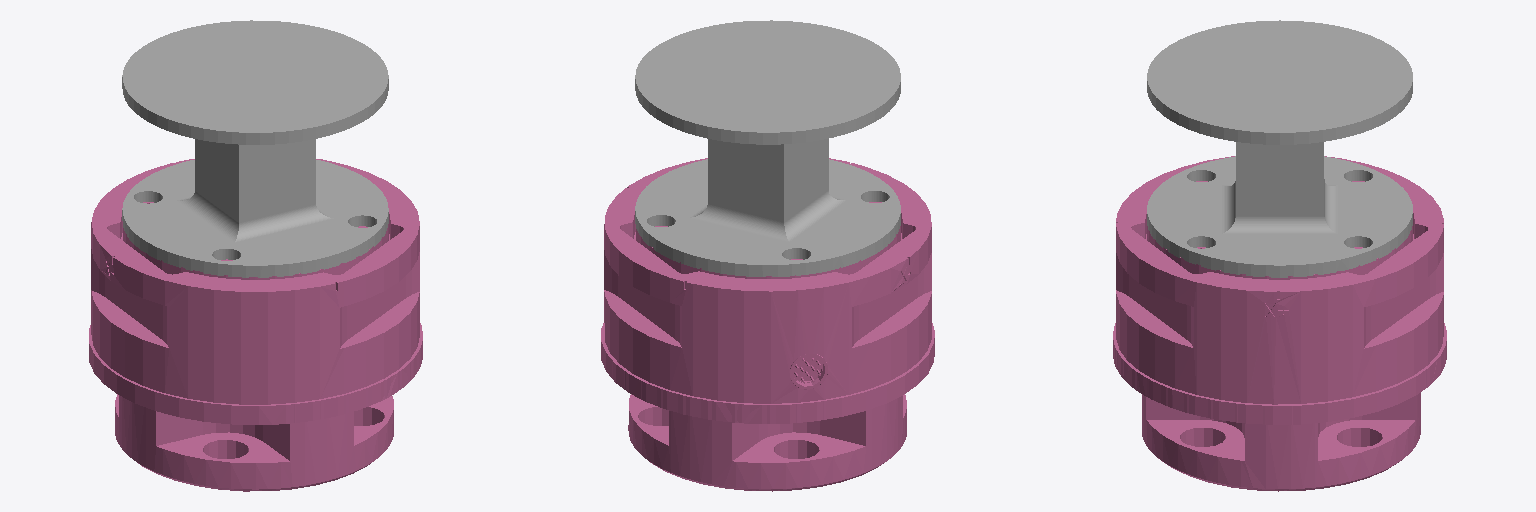
The robot description file, URDF, robot "wrist":
<robot name="wrist">
    <link name="world">
    </link>

    <joint name="joint_x" type="prismatic">
        <parent link="world"/>
        <child link="wrist_x"/>
        <origin rpy="0.0 0.0 0.0" xyz="0.0 0.0 0.0"/>
        <axis xyz="1 0 0"/>
        <limit lower="-1.0" upper="1.0" velocity="0.05" effort="1e9"/>
        <dynamics damping="0.0" friction="0.0"/>
    </joint>

    <link name="wrist_x">
        <inertial>
            <mass value="0.001"/>
            <inertia ixx="0.1" iyy="0.1" izz="0.1" ixy="0.0" ixz="0.0" iyz="0.0"/>
        </inertial>
    </link>

    <joint name="joint_y" type="prismatic">
        <parent link="wrist_x"/>
        <child link="wrist_y"/>
        <origin rpy="0.0 0.0 0.0" xyz="0.0 0.0 0.0"/>
        <axis xyz="0 1 0"/>
        <limit lower="-1.0" upper="1.0" velocity="0.05" effort="1e9"/>
        <dynamics damping="0.0" friction="0.0"/>
    </joint>

    <link name="wrist_y">
        <inertial>
            <mass value="0.001"/>
            <inertia ixx="0.1" iyy="0.1" izz="0.1" ixy="0.0" ixz="0.0" iyz="0.0"/>
        </inertial>
    </link>

    <joint name="joint_z" type="prismatic">
        <parent link="wrist_y"/>
        <child link="wrist_z"/>
        <origin rpy="0.0 0.0 0.0" xyz="0.0 0.0 0.0"/>
        <axis xyz="0 0 1"/>
        <limit lower="-1.0" upper="1.0" velocity="0.05" effort="1e9"/>
        <dynamics damping="0.0" friction="0.0"/>
    </joint>

    <link name="wrist_z">
        <inertial>
            <mass value="0.001"/>
            <inertia ixx="0.1" iyy="0.1" izz="0.1" ixy="0.0" ixz="0.0" iyz="0.0"/>
        </inertial>
    </link>

    <joint name="joint_rev_x" type="revolute">
        <parent link="wrist_z"/>
        <child link="wrist_rev_x"/>
        <axis xyz="1 0 0"/>
        <limit lower="-6.28" upper="6.28" velocity="0.1" effort="1e9"/>
        <dynamics damping="0.0" friction="0.0"/>
    </joint>

    <link name="wrist_rev_x">
        <inertial>
            <mass value="0.001"/>
            <inertia ixx="0.1" iyy="0.1" izz="0.1" ixy="0.0" ixz="0.0" iyz="0.0"/>
        </inertial>
    </link>

    <joint name="joint_rev_y" type="revolute">
        <parent link="wrist_rev_x"/>
        <child link="wrist_rev_y"/>
        <axis xyz="0 1 0"/>
        <limit lower="-6.28" upper="6.28" velocity="0.1" effort="1e9"/>
        <dynamics damping="0.0" friction="0.0"/>
    </joint>

    <link name="wrist_rev_y">
        <inertial>
            <mass value="0.001"/>
            <inertia ixx="0.1" iyy="0.1" izz="0.1" ixy="0.0" ixz="0.0" iyz="0.0"/>
        </inertial>
    </link>

    <joint name="joint_rev_z" type="revolute">
        <parent link="wrist_rev_y"/>
        <child link="wrist"/>
        <axis xyz="0 0 1"/>
        <limit lower="-6.28" upper="6.28" velocity="0.1" effort="1e9"/>
        <dynamics damping="0.0" friction="0.0"/>
    </joint>

    <link name="wrist">
        <inertial>
            <origin xyz="0.0 0.0 -0.025"/>
            <mass value="0.01"/>
            <inertia ixx="0.1" iyy="0.1" izz="0.1" ixy="0.0" ixz="0.0" iyz="0.0"/>
        </inertial>
        <visual>
            <geometry>
                <mesh filename="meshes/wrist/gamma_wrist/gamma_wrist_v3.stl"/>
            </geometry>
        </visual>
        <collision>
            <origin rpy="0.0 0.0 0.0" xyz="0.0 0.0 -0.025"/>
            <geometry>
                <cylinder radius="0.04" length="0.05"/>
            </geometry>
        </collision>
    </link>

    <joint name="wrist_to_mount" type="fixed">
        <origin xyz="0 0 0" rpy="0 0 0"/>
        <parent link="wrist"/>
        <child link="mount"/>
    </joint>

    <link name="mount">
        <inertial>
            <origin xyz="0.0 0.0 0.018"/>
            <mass value="0.01"/>  <!-- TODO: Replace with real mass. -->
            <inertia ixx="0.1" iyy="0.1" izz="0.1" ixy="0.0" ixz="0.0" iyz="0.0"/>
        </inertial>
        <visual>
            <geometry>
                <mesh filename="meshes/wrist/sponge_mount/sponge_mount_v2.stl"/>
            </geometry>
        </visual>
        <collision>
            <origin rpy="0.0 0.0 0.0" xyz="0.0 0.0 0.018"/>
            <geometry>
                <cylinder radius="0.06" length="0.036"/>
            </geometry>
        </collision>
    </link>

    <joint name="mount_to_soft" type="fixed">
        <origin xyz="0 0 0.0" rpy="0 0 0"/>
        <parent link="mount"/>
        <child link="soft"/>
    </joint>

    <link name="soft">
        <fem>
            <origin rpy="0 0 0" xyz="0 0 0.036"/>
            <density value="100"/>
            <youngs value="1e4"/>
            <poissons value="0.1"/>
            <damping value="0.0"/>
            <attachDistance value="0.05"/>
            <tetmesh filename="meshes/sponge/sponge_1/sponge_1.tet"/>
        </fem>
    </link>

</robot>

--- What the picture shows (computed from the rendered views, not written in the file) ---
3 views of the same robot in one strip: view 1: azimuth 30°, elevation 25°; view 2: azimuth 150°, elevation 25°; view 3: azimuth 270°, elevation 25° (orthographic).
Robot: wrist — 9 links, 8 joints (3 revolute, 3 prismatic, 2 fixed); root link world; default pose: all joints at 0.
Visible links, largest first — view 1: wrist, mount; view 2: wrist, mount; view 3: wrist, mount.
Boxes of the visible links, box(x1,y1,x2,y2) form: wrist: box(89, 159, 422, 491); mount: box(122, 20, 388, 277); wrist: box(601, 158, 934, 491); mount: box(635, 20, 900, 276); wrist: box(1113, 156, 1446, 491); mount: box(1147, 20, 1412, 277).
Bounding box of the posed robot: 0.0754 × 0.0754 × 0.089 m (x, y, z).
Meshes: 2 distinct files referenced, 2 mesh visuals loaded (2 binary STL).